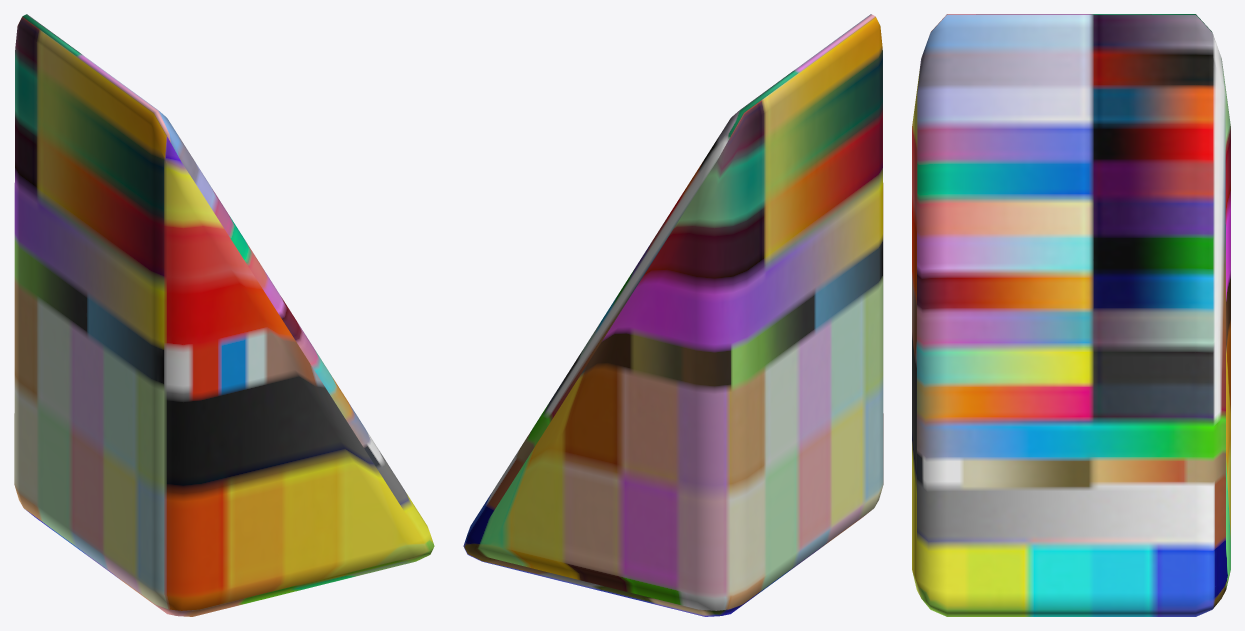
The model's file is talltringle.fbx.
The picture shows the model from 3 angles, left to right: view 1: azimuth 30°, elevation 25°; view 2: azimuth 150°, elevation 25°; view 3: azimuth 270°, elevation 25°; orthographic projection. The views are drawn at different scales.
Visible parts, largest first — view 1: Cube.023; view 2: Cube.023; view 3: Cube.023.
Boxes of the visible parts, x1,y1,x2,y2 form: Cube.023: (14, 14, 434, 616); Cube.023: (463, 14, 883, 616); Cube.023: (912, 14, 1230, 616).
Size of the model in its own units: 1.92 by 3.33 by 2.
